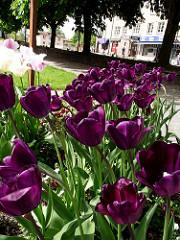tulip: (133, 139, 180, 199), (96, 179, 142, 223), (66, 106, 107, 144), (107, 115, 150, 151), (20, 85, 52, 117), (0, 71, 19, 112)
